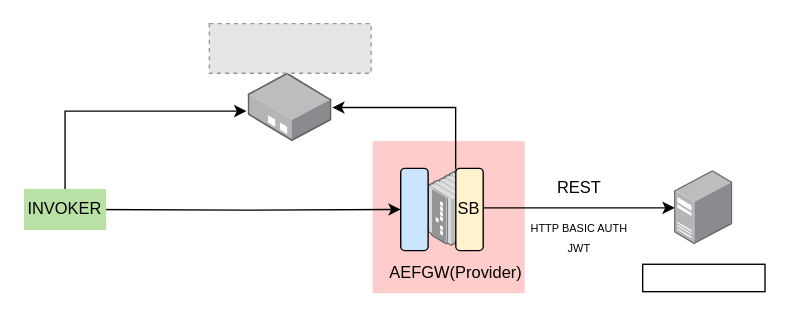
Some shapes in this 789 by 318 pixel diagram are drawn without their labels. Grey dashed boxes stand in for pictures. The box of each missing label's shape, as (x1, y1, x2, y2) in pixels:
Legacy System: (641, 263, 765, 292)
NB: (399, 167, 428, 251)
